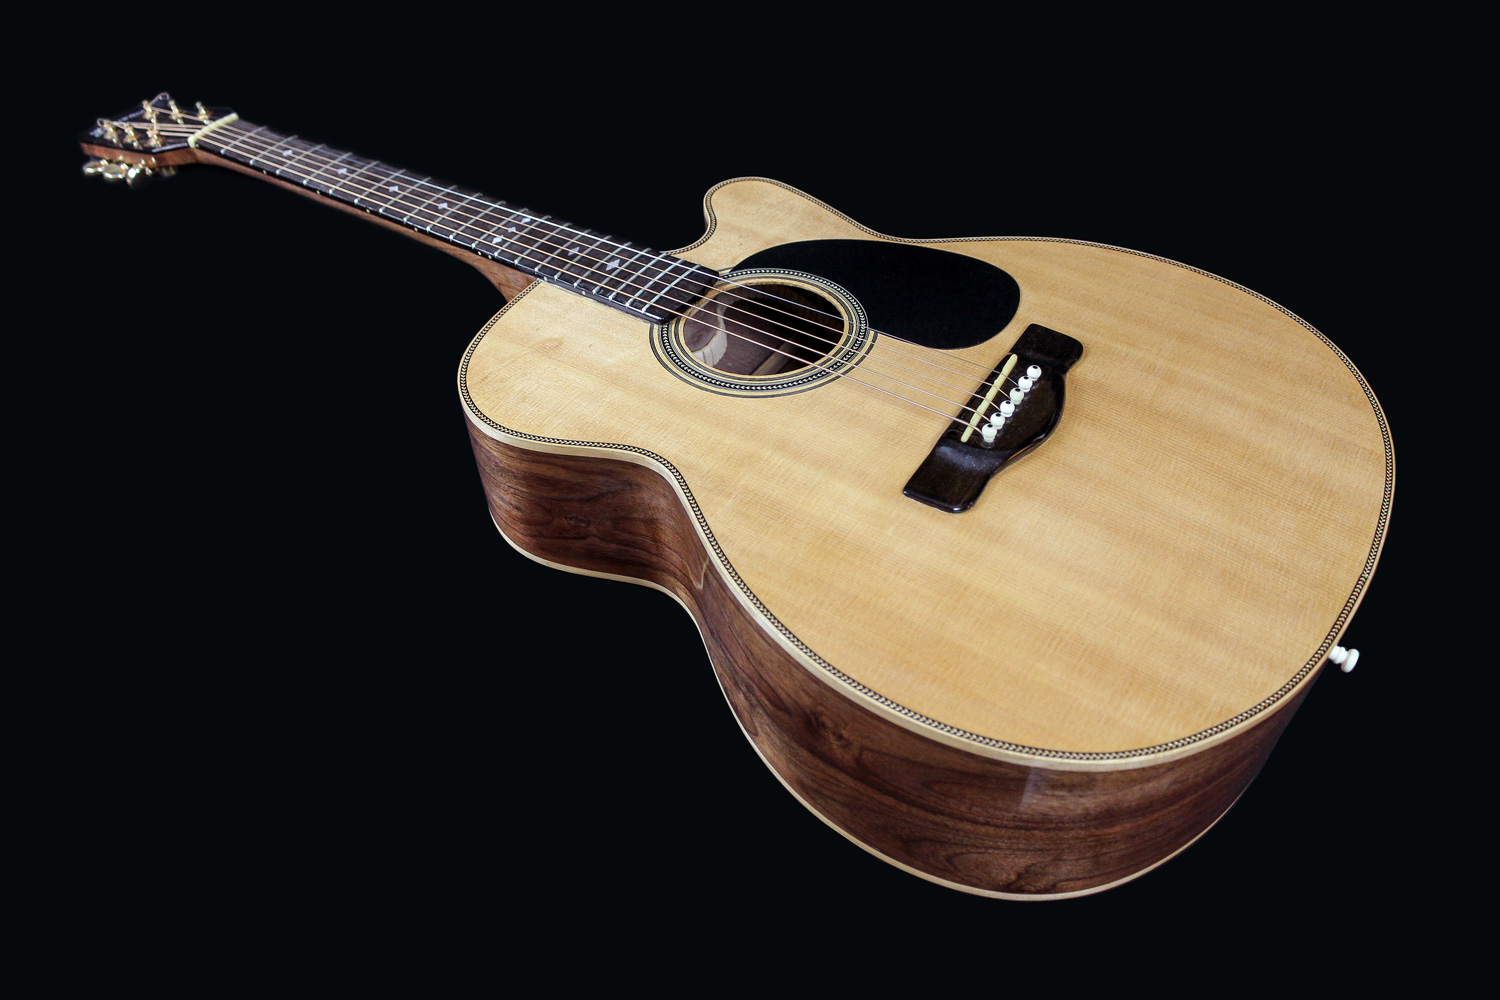guitar: (44, 67, 1458, 917), (454, 174, 1423, 904), (74, 87, 1041, 423)
